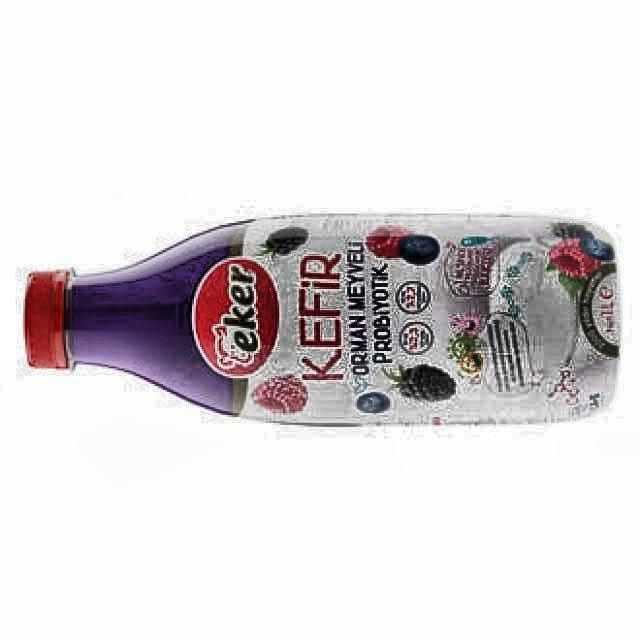plastic: (25, 215, 620, 422)
